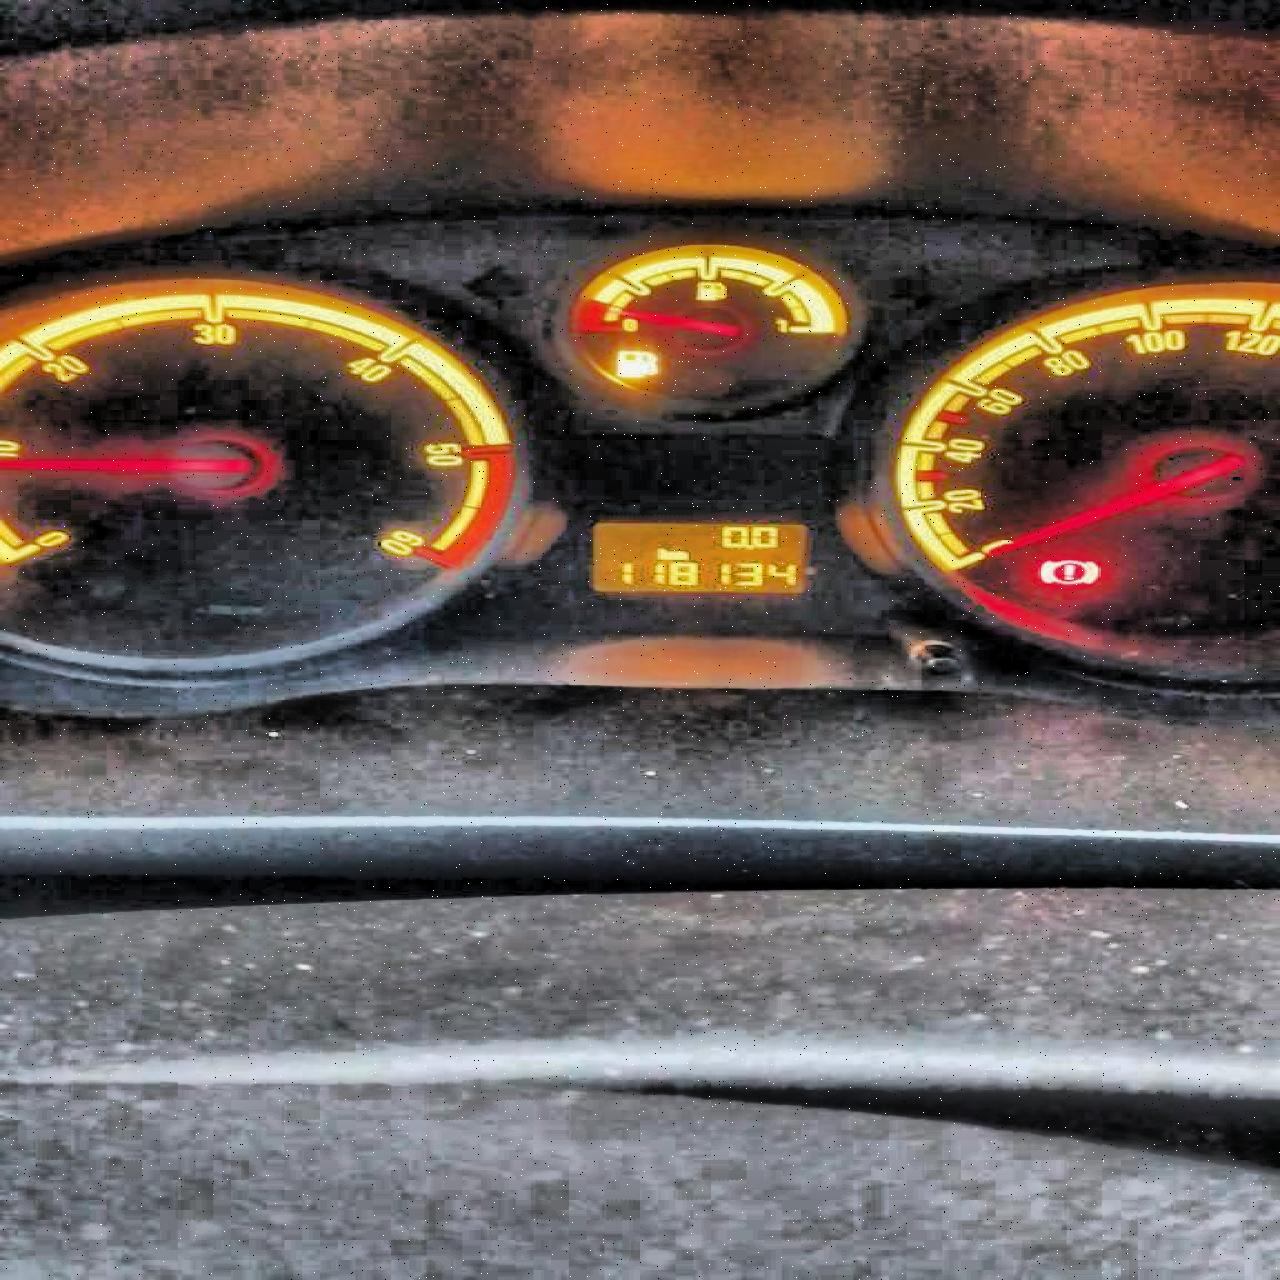-: (744, 544, 751, 549)
0: (747, 525, 777, 547), (717, 525, 747, 547)
1: (713, 561, 731, 584), (615, 560, 633, 584), (647, 561, 665, 584)
3: (731, 561, 762, 585)
4: (764, 561, 796, 585)
8: (665, 560, 700, 585)
X: (651, 546, 669, 560), (669, 549, 689, 559)
odometer: (578, 517, 818, 599)
